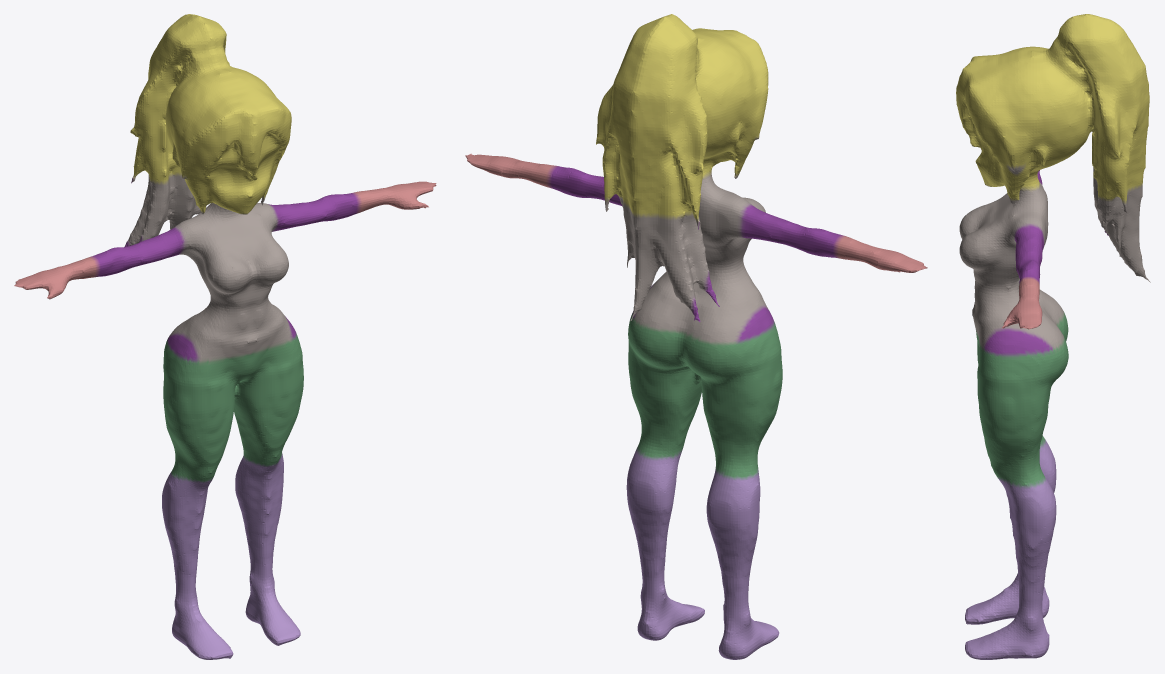
File: character_segmented_colored.glb
The picture shows the model from 3 angles, left to right: view 1: azimuth 30°, elevation 25°; view 2: azimuth 150°, elevation 25°; view 3: azimuth 270°, elevation 25°; orthographic projection. The views are drawn at different scales.
Visible parts, largest first — view 1: world; view 2: world; view 3: world.
Part boxes in pixels (x1,y1,x2,y2): world: (14, 14, 436, 659); world: (465, 14, 927, 659); world: (956, 14, 1150, 659).
Size of the model in its own units: 1.46 by 1.96 by 0.5555.
